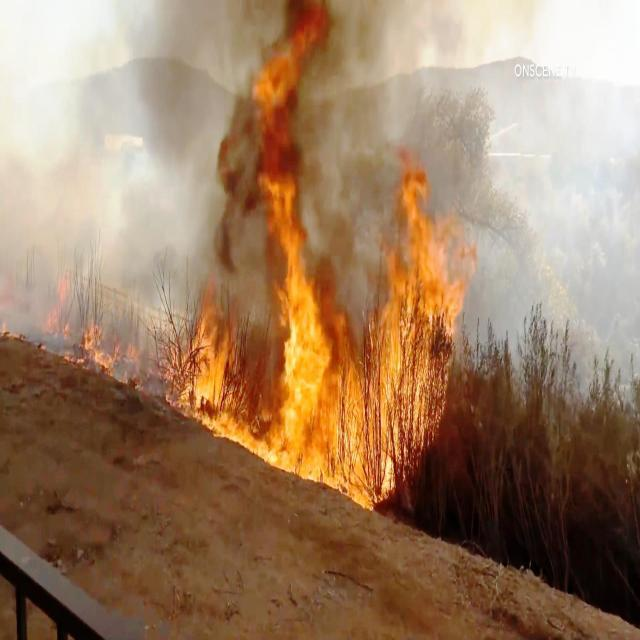Fire: (168, 280, 371, 506), (255, 0, 324, 475), (40, 278, 113, 370), (332, 2, 401, 92)
Smoke: (144, 8, 250, 262), (312, 89, 372, 273)
